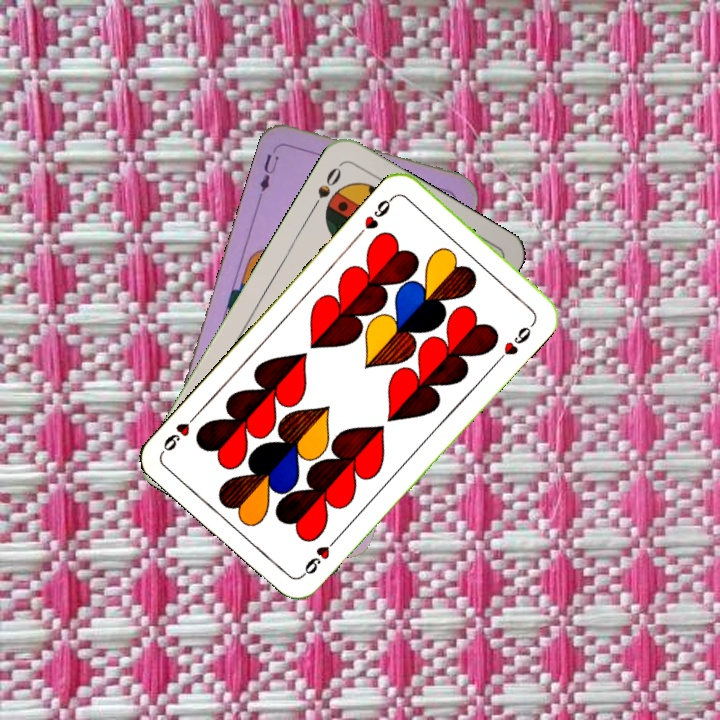EU: (255, 141, 283, 195)
H9: (353, 191, 398, 239), (298, 532, 342, 580)
SO: (307, 163, 344, 213)
